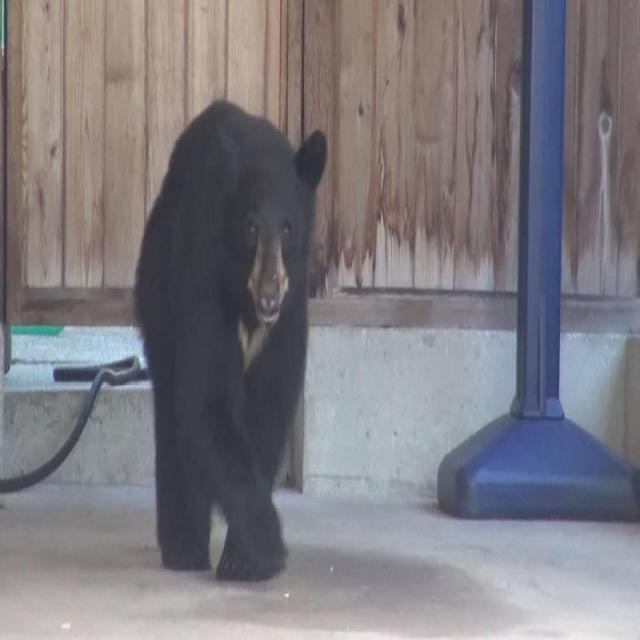Bear: (133, 101, 330, 585)
